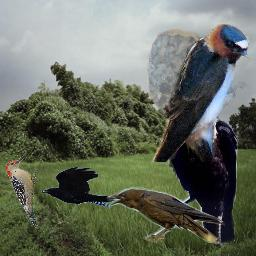Crow: (166, 88, 239, 248), (106, 186, 225, 243), (41, 167, 114, 208)
Swallow: (147, 22, 249, 162)
Woodpecker: (6, 154, 38, 229)
